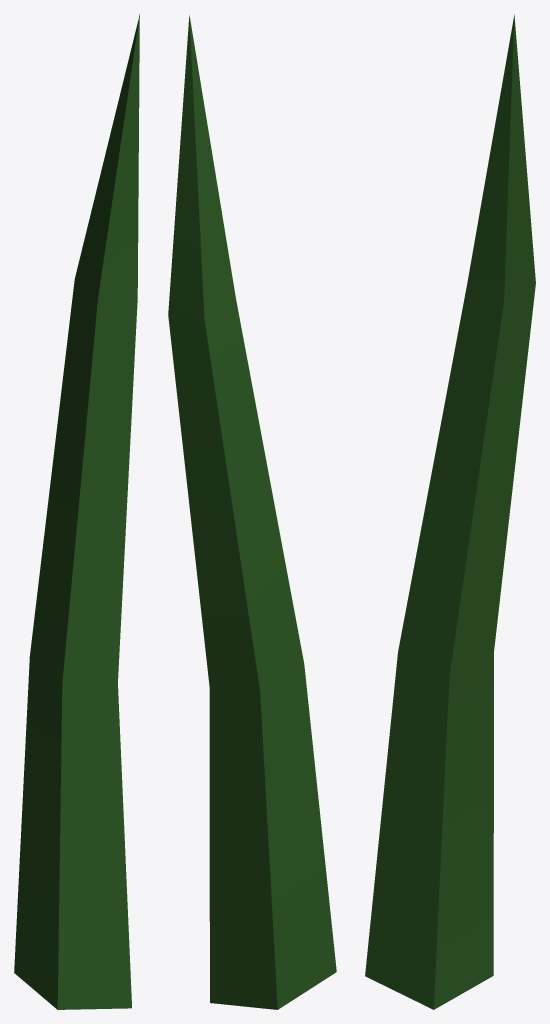
Rendered from grass_03.glb.
The picture shows the model from 3 angles, left to right: view 1: azimuth 30°, elevation 25°; view 2: azimuth 150°, elevation 25°; view 3: azimuth 330°, elevation 25°; orthographic projection. The views are drawn at different scales.
Visible parts, largest first — view 1: Grass_003; view 2: Grass_003; view 3: Grass_003.
Boxes of the visible parts, x1,y1,x2,y2 form: Grass_003: [14, 14, 139, 1009]; Grass_003: [168, 15, 336, 1009]; Grass_003: [365, 14, 535, 1009].
Bounding box in the file's own units: 1.74 × 13.97 × 1.6.
1 material, 1 textured.
